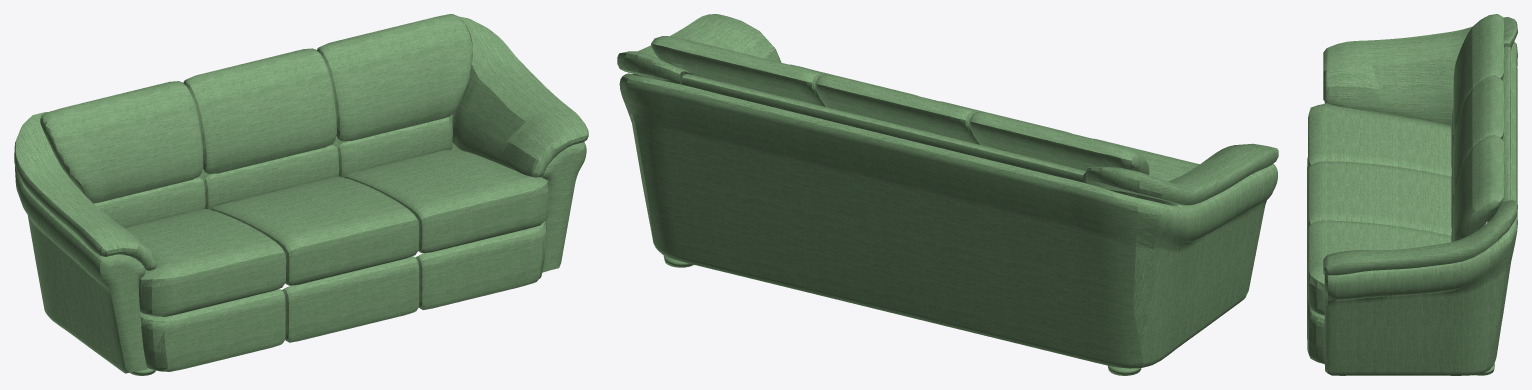
File: pro_test.glb
3 views of the same model, side by side, from view 1: azimuth 30°, elevation 25°; view 2: azimuth 150°, elevation 25°; view 3: azimuth 270°, elevation 25° (orthographic). The views are drawn at different scales.
Visible parts, largest first — view 1: 14_001, 15_001, 13_001, 9_001, 8_001; view 2: 15_001, 14_001, 8_001, 9_001, 13_001; view 3: 15_001, 13_001, 8_001, 14_001, 9_001.
Part boxes in pixels (x1,y1,x2,y2): 14_001: [40, 14, 472, 227]; 15_001: [15, 136, 586, 373]; 13_001: [125, 150, 548, 316]; 9_001: [450, 16, 588, 177]; 8_001: [14, 112, 156, 270]; 15_001: [619, 73, 1277, 368]; 14_001: [651, 36, 1149, 197]; 8_001: [1085, 143, 1278, 207]; 9_001: [617, 14, 781, 84]; 13_001: [790, 64, 1199, 181]; 15_001: [1307, 41, 1517, 375]; 13_001: [1308, 103, 1451, 315]; 8_001: [1323, 17, 1517, 126]; 14_001: [1451, 14, 1503, 241]; 9_001: [1323, 200, 1517, 275].
Size of the model in its own units: 2.3 by 0.8799 by 0.9283.
Materials: 1 (1 with a texture image).
